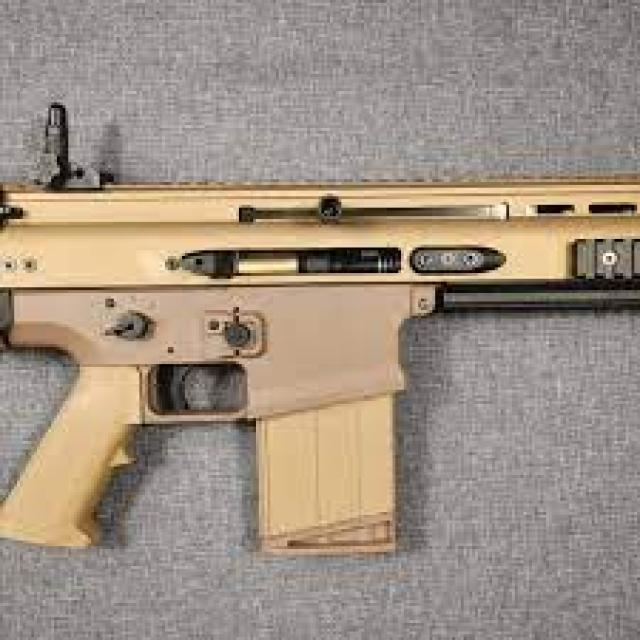Gun: (0, 74, 640, 568)
